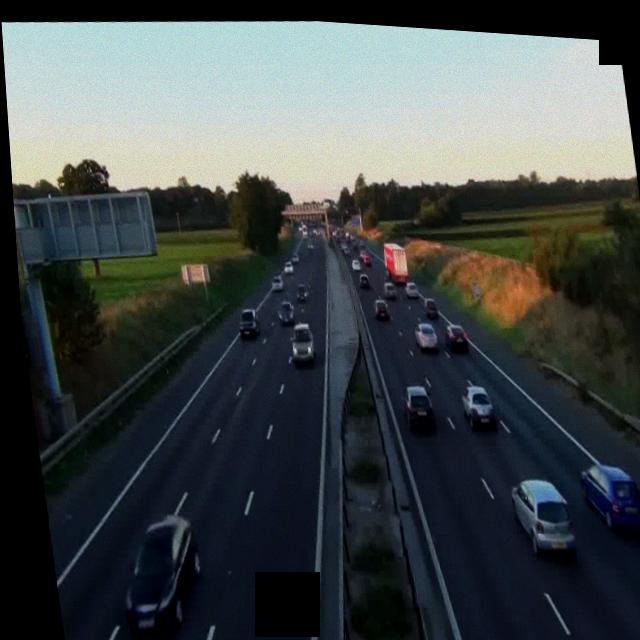car: (112, 509, 211, 640), (509, 476, 577, 559), (578, 459, 640, 538), (459, 382, 498, 430), (401, 383, 437, 432), (288, 322, 318, 366), (414, 319, 441, 353), (443, 323, 470, 355), (236, 307, 260, 339), (276, 299, 296, 325), (422, 297, 439, 320), (374, 298, 390, 321), (404, 281, 421, 299), (383, 280, 398, 300), (294, 282, 308, 302), (357, 271, 371, 289), (271, 273, 284, 291), (283, 259, 295, 274), (350, 258, 360, 272)
truck: (383, 241, 411, 285)
